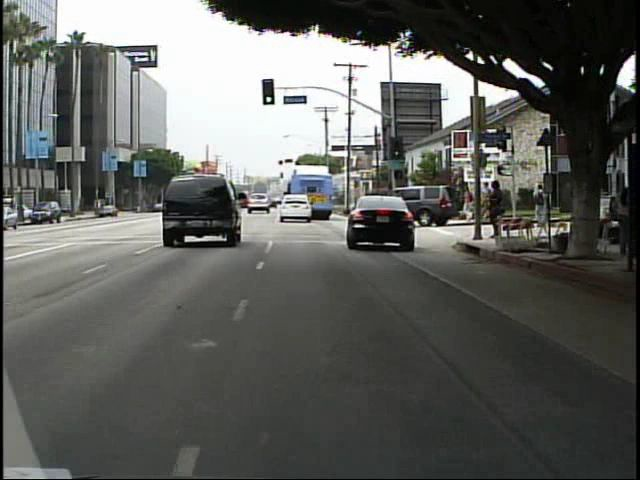person: (485, 175, 507, 245), (529, 181, 549, 238)
